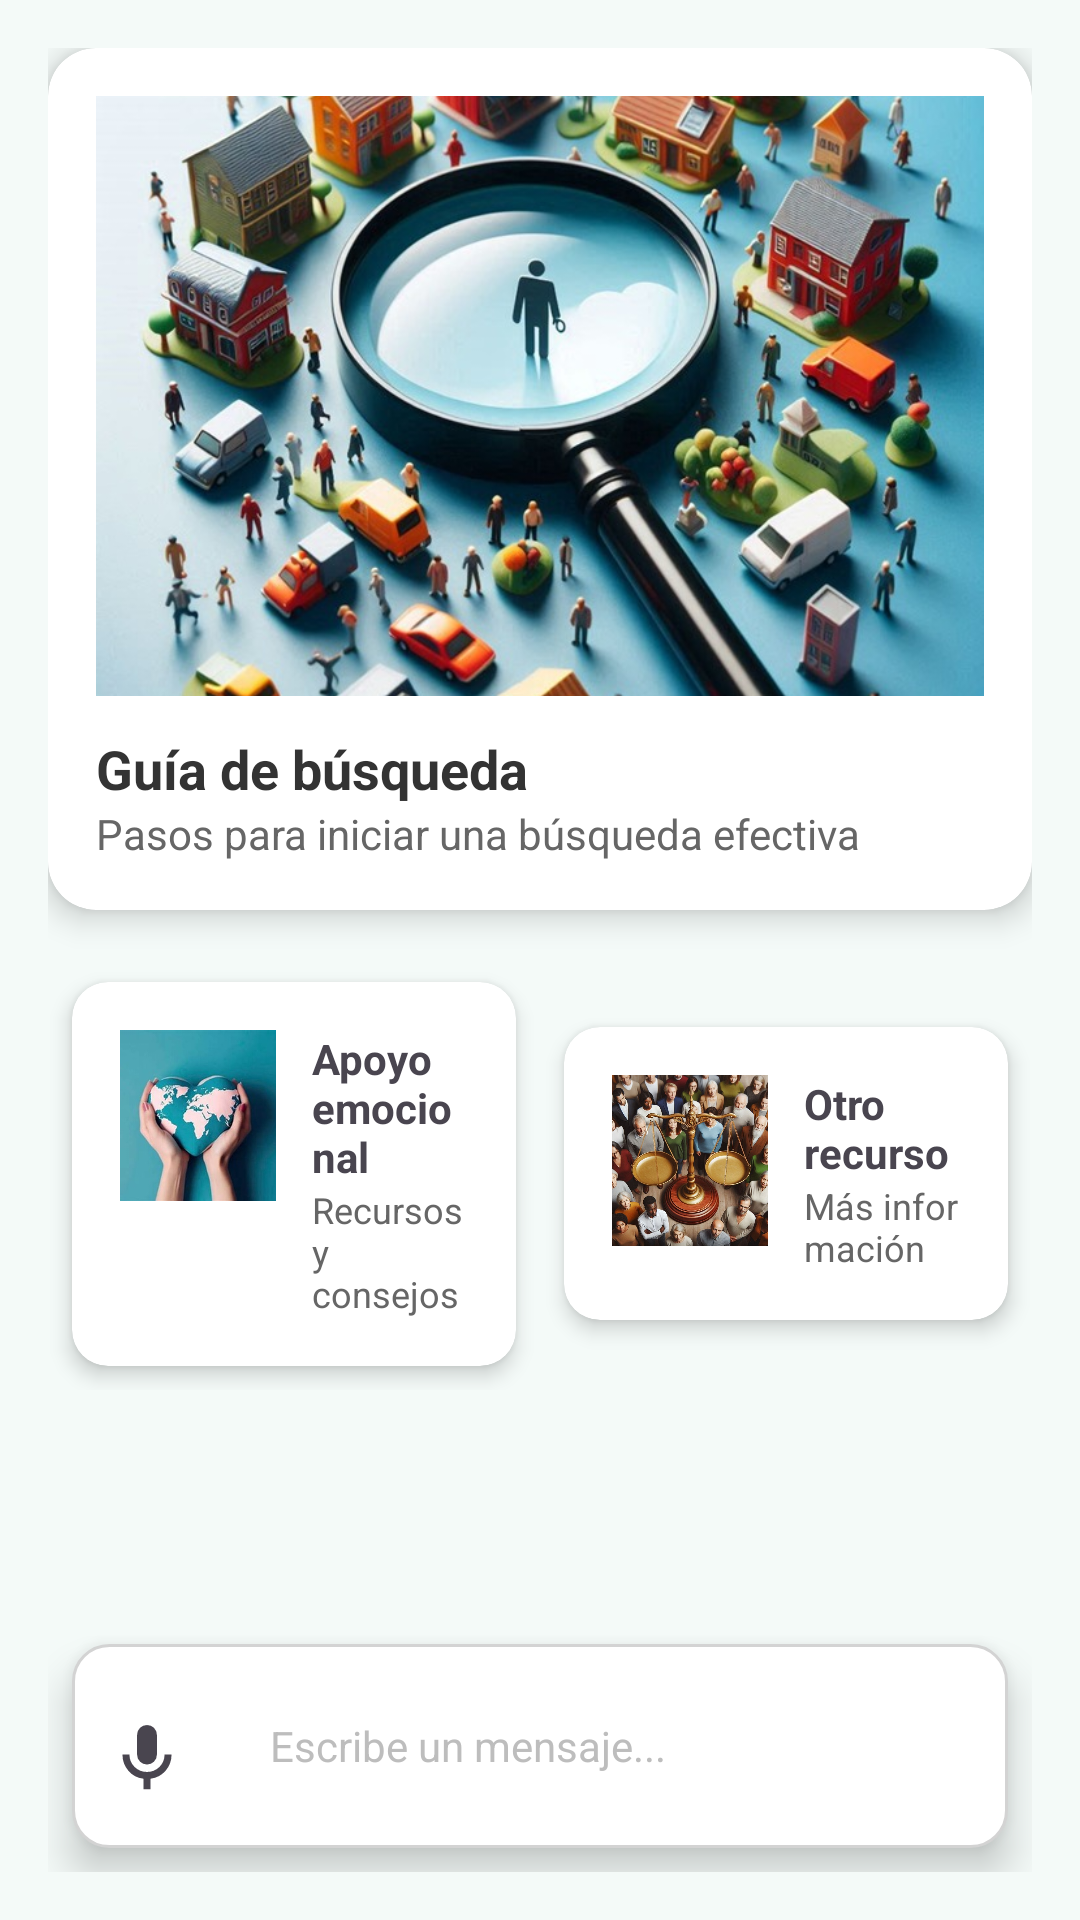

Icons on this 1080w x 1920h Android screen, each with the point to tap as point (x, y):
legar: point (690, 1160)
mic: point (147, 1757)
